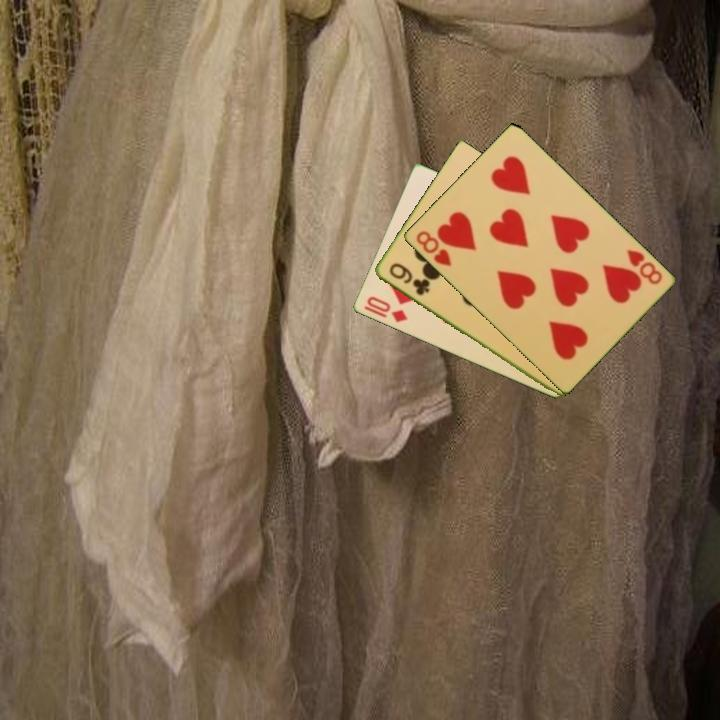10d: (360, 293, 410, 326)
8h: (412, 227, 454, 269), (623, 246, 665, 287)
9c: (385, 259, 432, 299)
